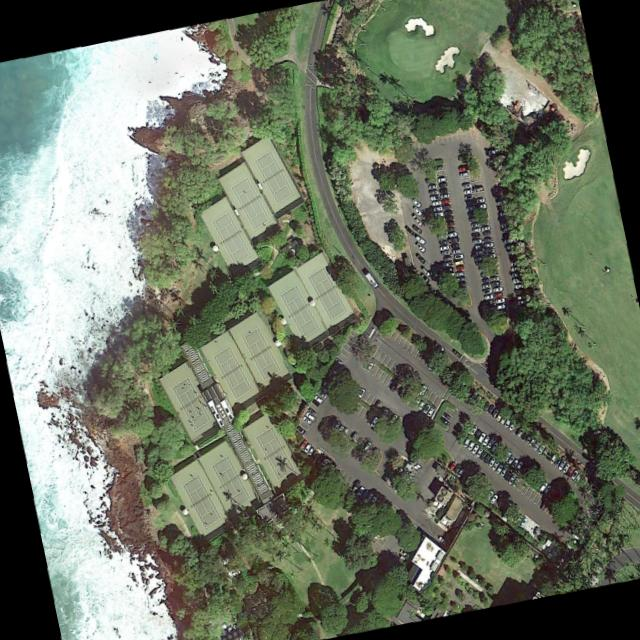large-vehicle: (365, 272, 379, 289)
small-vehicle: (351, 479, 361, 494), (416, 253, 427, 266), (513, 460, 523, 474), (412, 214, 423, 226), (404, 224, 415, 236), (538, 481, 548, 494), (415, 234, 426, 245), (440, 416, 451, 427), (434, 342, 445, 353), (485, 490, 495, 502), (519, 516, 529, 528), (389, 413, 399, 425), (453, 462, 462, 475), (503, 450, 512, 463), (512, 476, 521, 489), (370, 416, 379, 429), (421, 266, 431, 277), (416, 242, 426, 253), (412, 224, 423, 234), (412, 206, 422, 217), (305, 412, 316, 422), (302, 415, 312, 426), (297, 425, 307, 436), (308, 406, 318, 417), (328, 371, 338, 382), (482, 435, 491, 447), (495, 463, 504, 475), (503, 469, 512, 481), (365, 361, 374, 373), (341, 426, 350, 438), (381, 407, 390, 419), (374, 399, 383, 411), (357, 387, 366, 399), (570, 469, 579, 481), (508, 419, 517, 431), (503, 417, 512, 429), (499, 413, 508, 425), (491, 459, 499, 472), (320, 385, 330, 395), (457, 467, 466, 478), (489, 494, 498, 505), (516, 514, 525, 525), (532, 526, 541, 537), (412, 197, 421, 208), (543, 485, 552, 496), (490, 442, 499, 453), (467, 440, 476, 451), (471, 444, 480, 455), (483, 453, 492, 464), (300, 439, 309, 450), (314, 394, 323, 405), (320, 455, 329, 466), (317, 390, 328, 399), (562, 462, 571, 473), (558, 459, 567, 470), (418, 385, 427, 396), (520, 430, 529, 441), (524, 433, 533, 444), (537, 444, 546, 455), (474, 428, 482, 440), (478, 432, 486, 444), (488, 456, 496, 468), (361, 488, 369, 500), (444, 266, 456, 274), (421, 273, 430, 283), (365, 492, 374, 502), (330, 366, 339, 376), (453, 348, 462, 358), (473, 395, 482, 405), (443, 411, 452, 421), (532, 440, 541, 450), (566, 466, 574, 477), (449, 461, 457, 472), (463, 437, 471, 448), (507, 454, 515, 465), (470, 425, 478, 436), (486, 438, 494, 449), (479, 450, 487, 461), (508, 474, 516, 485), (304, 442, 312, 453), (497, 198, 508, 206), (364, 441, 372, 452), (351, 431, 359, 442), (334, 420, 342, 431), (476, 254, 487, 262), (467, 210, 478, 218), (423, 403, 431, 414), (491, 408, 499, 419), (483, 400, 491, 411), (470, 391, 478, 402), (549, 453, 557, 464), (488, 149, 500, 156), (442, 261, 454, 268), (443, 214, 455, 221), (448, 236, 460, 243), (399, 548, 408, 557), (335, 357, 344, 366), (324, 381, 333, 390), (511, 458, 519, 468), (357, 486, 365, 496), (465, 198, 475, 206), (487, 404, 495, 414), (427, 408, 435, 418), (516, 427, 524, 437), (554, 456, 562, 466), (494, 290, 504, 298), (430, 194, 441, 201), (476, 447, 483, 458), (370, 495, 377, 506), (485, 247, 496, 254), (440, 249, 451, 256), (473, 186, 484, 193), (472, 238, 483, 245), (418, 400, 425, 411), (496, 411, 503, 422), (500, 467, 508, 476), (307, 446, 315, 455), (312, 399, 320, 408), (434, 210, 444, 217), (575, 473, 582, 483), (338, 424, 345, 434), (478, 260, 488, 267), (479, 266, 489, 273), (443, 208, 453, 215), (438, 181, 448, 188), (439, 238, 449, 245), (485, 299, 495, 306), (475, 249, 485, 256), (454, 259, 464, 266), (511, 260, 521, 267), (495, 303, 505, 310), (482, 288, 492, 295), (495, 297, 505, 304), (507, 249, 518, 255), (501, 221, 512, 227), (504, 238, 515, 244), (437, 233, 448, 239), (469, 216, 480, 222), (514, 283, 525, 289), (510, 266, 521, 272), (512, 278, 523, 284), (492, 286, 503, 292), (443, 255, 452, 262), (442, 203, 451, 210), (464, 188, 473, 195), (475, 243, 484, 250), (455, 253, 464, 260), (456, 264, 465, 271), (491, 281, 500, 288), (433, 206, 443, 212), (432, 200, 442, 206), (429, 189, 439, 195), (500, 211, 510, 217), (487, 253, 497, 259), (488, 265, 498, 271), (488, 270, 498, 276), (440, 193, 450, 199), (445, 226, 455, 232), (448, 231, 458, 237), (484, 242, 494, 248), (503, 232, 513, 238), (503, 227, 513, 233), (506, 244, 516, 250), (477, 203, 487, 209), (471, 232, 481, 238), (471, 226, 481, 232), (451, 242, 461, 248), (452, 248, 462, 254), (440, 245, 450, 251), (456, 276, 466, 282), (482, 283, 492, 289), (484, 294, 494, 300), (518, 299, 526, 306), (434, 165, 445, 170), (459, 166, 470, 171), (470, 222, 481, 227), (426, 177, 435, 183), (438, 176, 447, 182), (464, 194, 473, 200), (456, 271, 465, 277), (458, 281, 467, 287), (482, 277, 491, 283), (460, 172, 470, 177), (445, 221, 455, 226), (462, 183, 472, 188), (481, 226, 491, 231), (512, 272, 522, 277), (440, 187, 448, 193), (442, 198, 450, 204), (483, 230, 491, 236), (429, 184, 438, 189), (466, 206, 475, 211), (476, 198, 485, 203), (480, 272, 489, 277), (490, 276, 499, 281), (484, 237, 492, 242), (517, 295, 525, 300)
